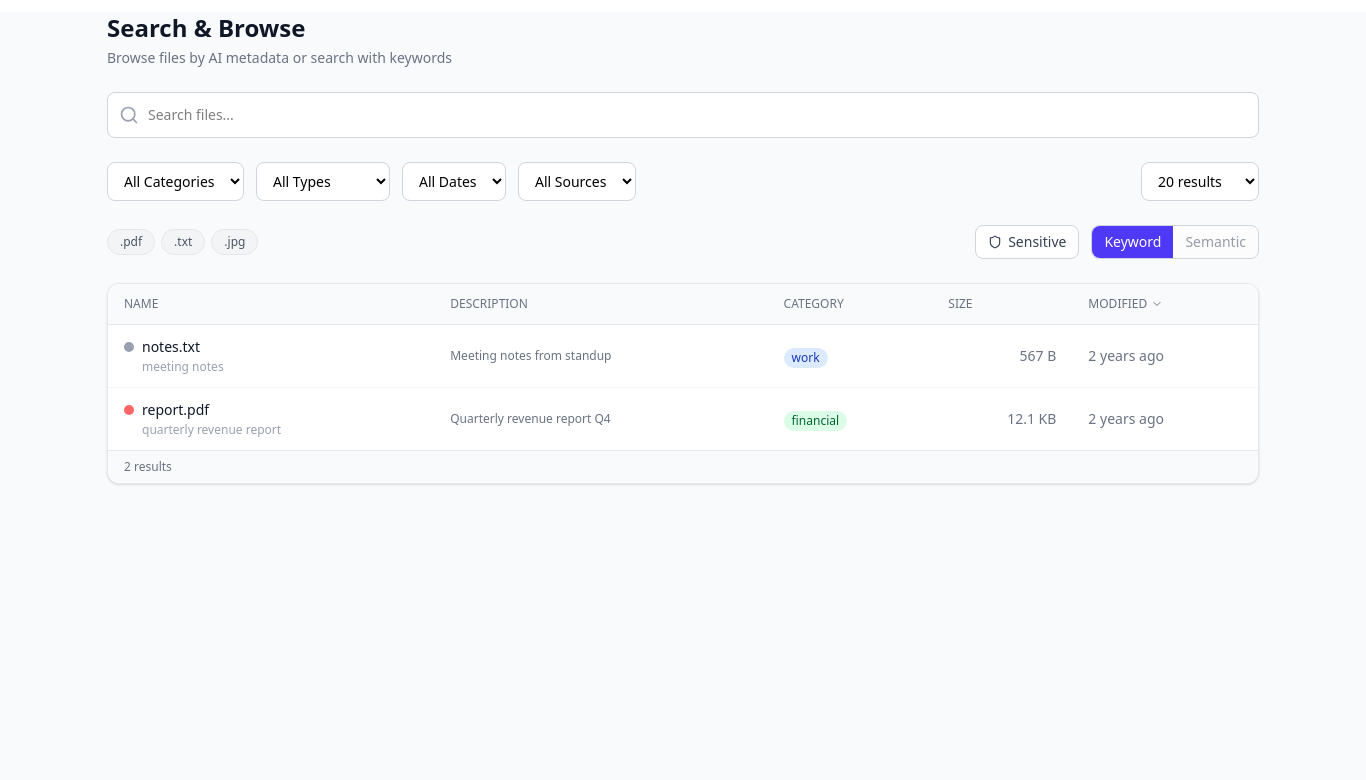
Test: Search Page › opens file detail panel on row click
Click the text "report.pdf" at (176,410), box [142,400,209,420]
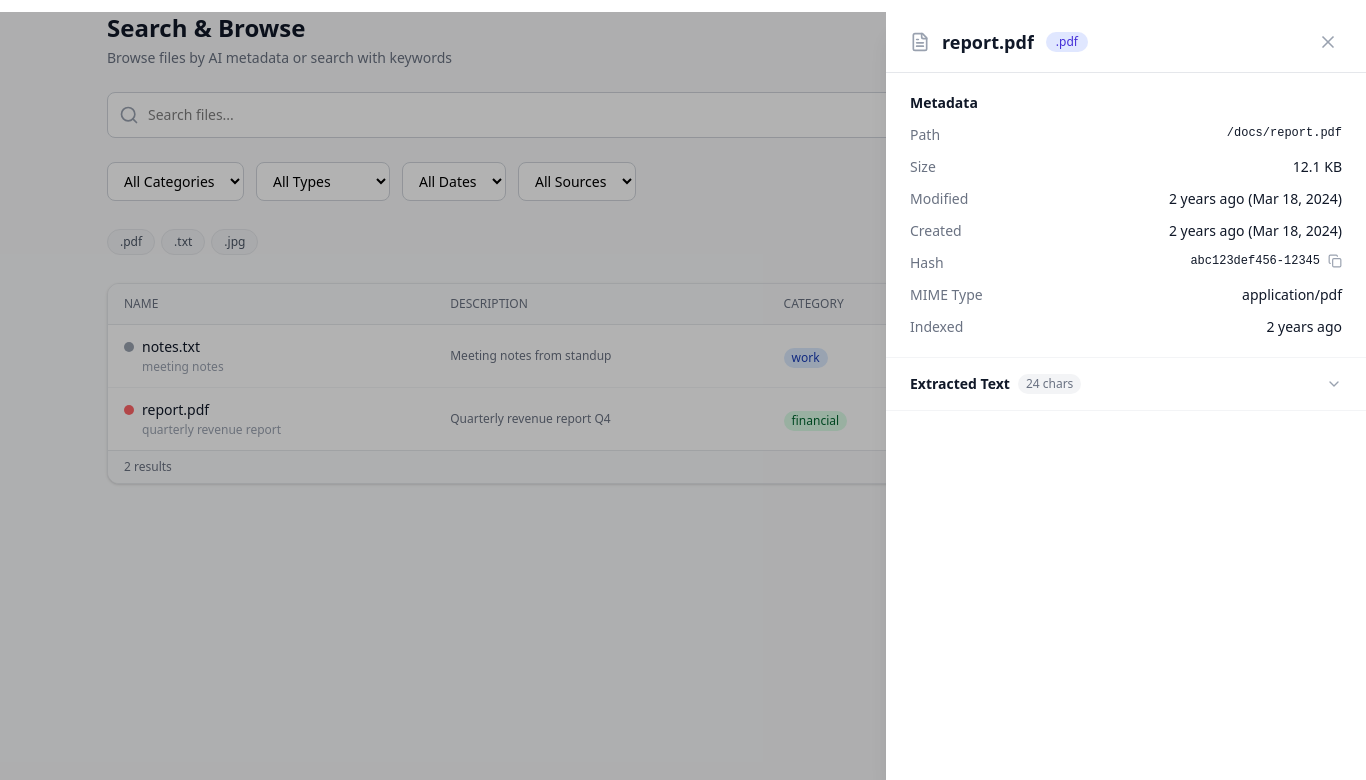
Now the heading "Metadata" is shown, box [910,93,978,112]
Now the text "abc123def456-12345" is shown, box [1190,253,1342,269]
